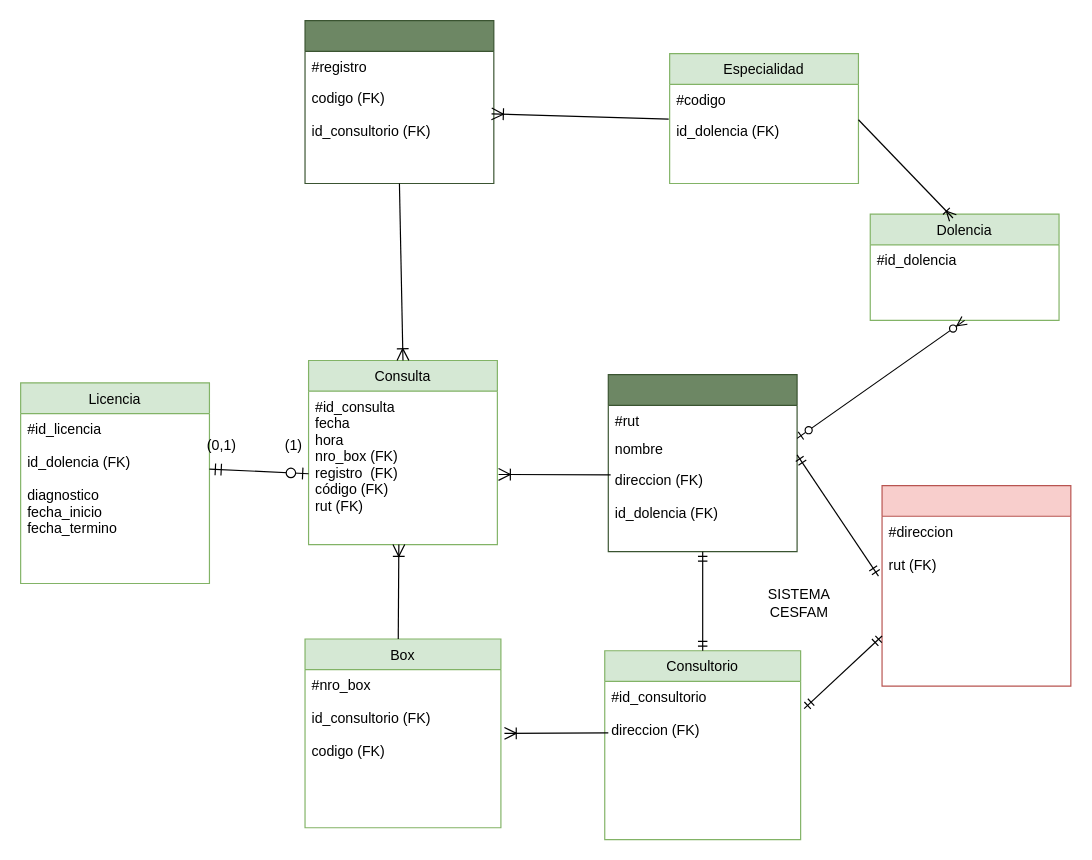
This 1092x860 diagram has some shape labels left out. The shapes that lost their labels are listed below. From the top down, each one's box as (x1, y1, x2, y2) in pixels, then its label:
(304, 19, 494, 183): Médico
(607, 373, 797, 552): Paciente
(881, 484, 1071, 686): Sector
